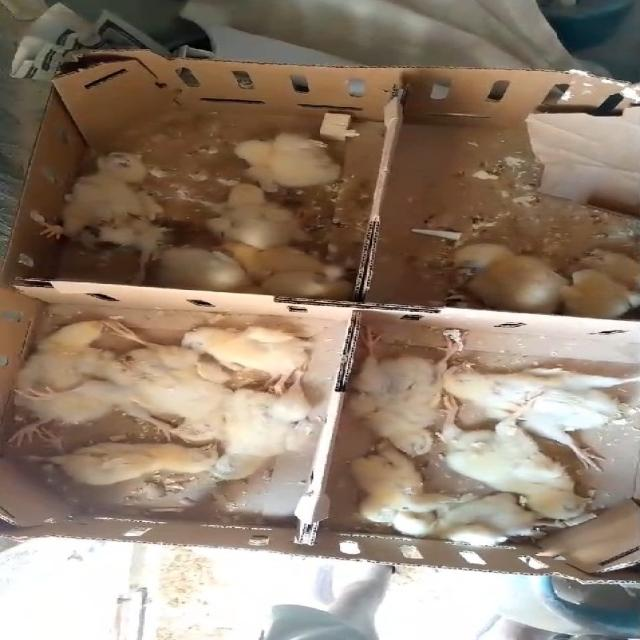dead: (428, 341, 632, 474), (436, 391, 596, 521), (57, 420, 221, 516), (116, 324, 232, 437), (368, 337, 462, 469), (57, 138, 157, 248), (221, 120, 355, 194), (442, 230, 556, 316), (179, 318, 305, 394), (17, 306, 92, 432), (425, 490, 553, 549), (350, 439, 433, 526)
